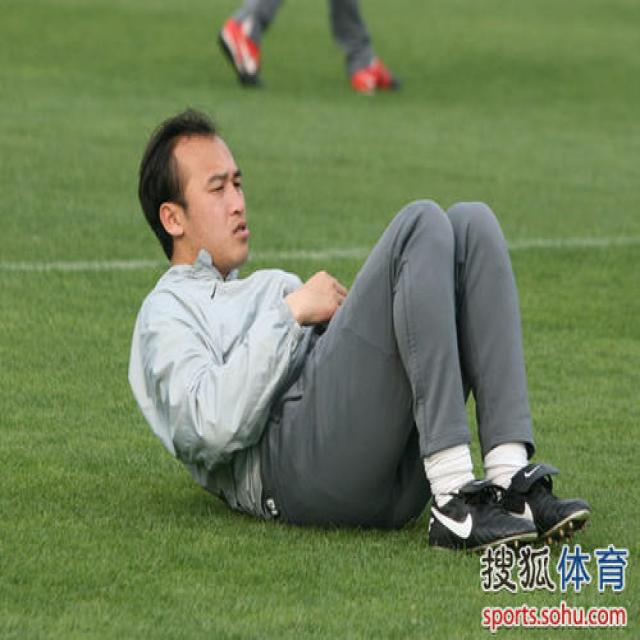fall: (146, 117, 573, 544)
